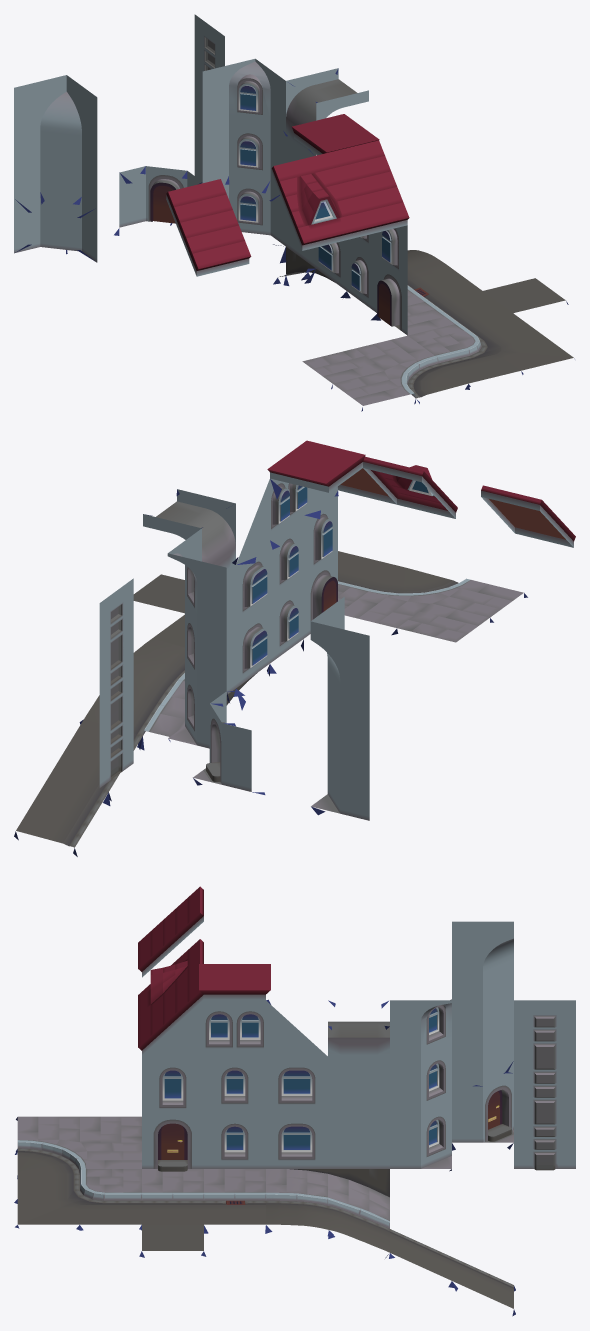
Rendered from buildings.glb.
3 views of the same model, one above another, from view 1: azimuth 30°, elevation 25°; view 2: azimuth 150°, elevation 25°; view 3: azimuth 270°, elevation 25° (orthographic). The views are drawn at different scales.
Parts seen in each view (by area): view 1: h1.021, h1.002, h1.001, h1.004, h1.019, h1.017, h1.020, h1.018, h1.003, h1.025, h1.016, h1 (+20 smaller); view 2: h1.025, Plane.015, h1.004, h1.003, h1, h1.019, h1.017, h1.021, h1.002, h1.020, h1.018, Plane.014 (+25 smaller); view 3: h1.003, h1.016, h1.005, h1.024, h1.023, h1.006, h1.007, h1.008, h1.009, h1.010, h1.011, h1.014 (+33 smaller).
Boxes of the visible parts, <box> form: h1.021: <box>166,179,251,276</box>; h1.002: <box>271,153,356,250</box>; h1.001: <box>326,140,409,237</box>; h1.004: <box>14,75,97,151</box>; h1.019: <box>202,58,285,135</box>; h1.017: <box>14,192,97,262</box>; h1.020: <box>14,136,97,207</box>; h1.018: <box>202,120,285,183</box>; h1.003: <box>114,166,202,235</box>; h1.025: <box>283,68,368,156</box>; h1.016: <box>202,175,285,246</box>; h1: <box>292,114,379,155</box>; h1.025: <box>143,489,238,571</box>; Plane.015: <box>14,775,111,856</box>; h1.004: <box>310,597,369,697</box>; h1.003: <box>193,691,265,794</box>; h1: <box>267,440,365,492</box>; h1.019: <box>167,528,226,629</box>; h1.017: <box>311,733,369,820</box>; h1.021: <box>481,485,575,547</box>; h1.002: <box>363,456,457,518</box>; h1.020: <box>327,671,369,758</box>; h1.018: <box>185,603,226,690</box>; Plane.014: <box>50,719,144,805</box>; h1.003: <box>452,1061,513,1150</box>; h1.016: <box>390,1099,451,1171</box>; h1.005: <box>142,1112,203,1171</box>; h1.024: <box>514,1000,575,1057</box>; h1.023: <box>514,1112,575,1170</box>; h1.006: <box>204,1112,265,1168</box>; h1.007: <box>266,1112,327,1168</box>; h1.008: <box>204,1056,265,1112</box>; h1.009: <box>142,1056,203,1112</box>; h1.010: <box>266,1056,327,1112</box>; h1.011: <box>204,1000,265,1056</box>; h1.014: <box>328,1056,389,1112</box>.
Size of the model in its own units: 7.05 by 4.91 by 9.06.
Materials: 1 (1 with a texture image).
